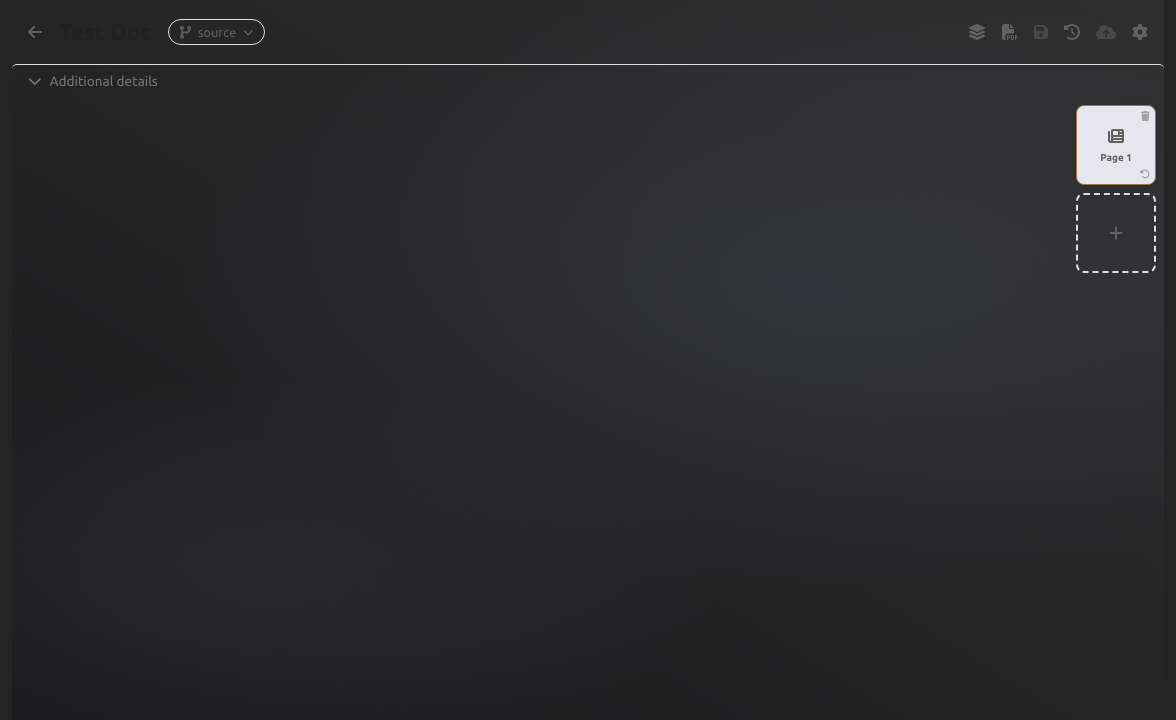
it: SpellEditForm › cover editing (TCORE-122 -- lives inside "Additional details", as one more metadata field) › offers "use PDF page 1" when the spell has a stored original PDF
Expected: the element with test id "spell-edit-form" is shown, [12, 18, 1164, 273]
Click the button with test id "spell-metadata-toggle": (104, 81) [12, 64, 1164, 97]
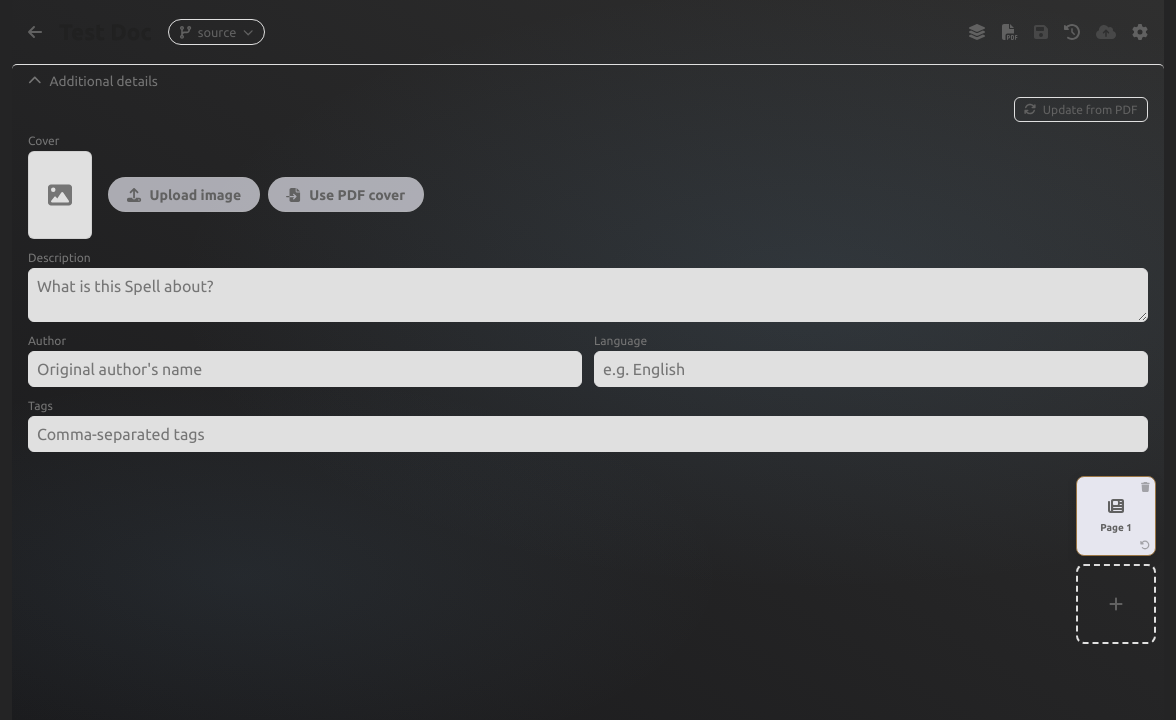
Expected: the button with test id "cover-picker-use-first-page-btn" is shown, [268, 177, 424, 212]
